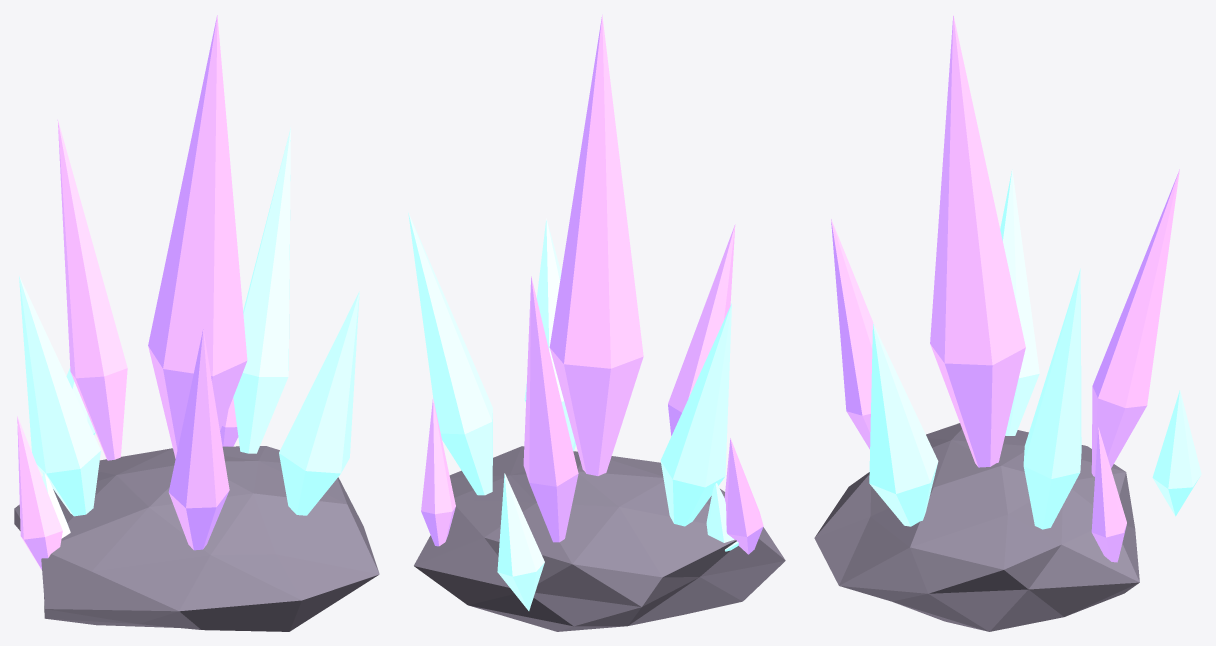
File: prismshard.glb
3 views of the same model, side by side, from view 1: azimuth 30°, elevation 25°; view 2: azimuth 150°, elevation 25°; view 3: azimuth 270°, elevation 25° (orthographic). The views are drawn at different scales.
Visible parts, largest first — view 1: Icosphere, PS_core, PS_mid1, PS_mid0, PS_mid2, PS_mid4, PS_mid3, PS_sat1, PS_sat2; view 2: Icosphere, PS_core, PS_mid0, PS_mid2, PS_mid1, PS_mid3, PS_sat3, PS_sat2, PS_sat1, PS_mid4, PS_sat0; view 3: Icosphere, PS_core, PS_mid1, PS_mid0, PS_mid4, PS_mid3, PS_mid2, PS_sat3, PS_sat2.
Part boxes in pixels (x1,y1,x2,y2): Icosphere: (14,446,379,631); PS_core: (148,15,247,458); PS_mid1: (57,119,127,460); PS_mid0: (233,127,290,453); PS_mid2: (19,275,100,516); PS_mid4: (279,291,359,515); PS_mid3: (168,329,229,550); PS_sat1: (17,416,62,569); PS_sat2: (220,398,238,446); Icosphere: (414,446,785,631); PS_core: (549,15,643,475); PS_mid0: (408,212,492,495); PS_mid2: (660,303,731,526); PS_mid1: (523,276,578,542); PS_mid3: (668,224,735,435); PS_sat3: (497,473,544,610); PS_sat2: (421,398,455,546); PS_sat1: (724,438,763,554); PS_mid4: (524,218,575,451); PS_sat0: (706,483,738,551); Icosphere: (814,423,1139,631); PS_core: (930,15,1025,467); PS_mid1: (1091,169,1179,476); PS_mid0: (1023,268,1081,529); PS_mid4: (869,323,938,526); PS_mid3: (831,219,874,449); PS_mid2: (1000,169,1039,435); PS_sat3: (1152,390,1201,516); PS_sat2: (1091,427,1126,562).
Bounding box in the file's own units: 0.6991 × 1.25 × 0.7469.
